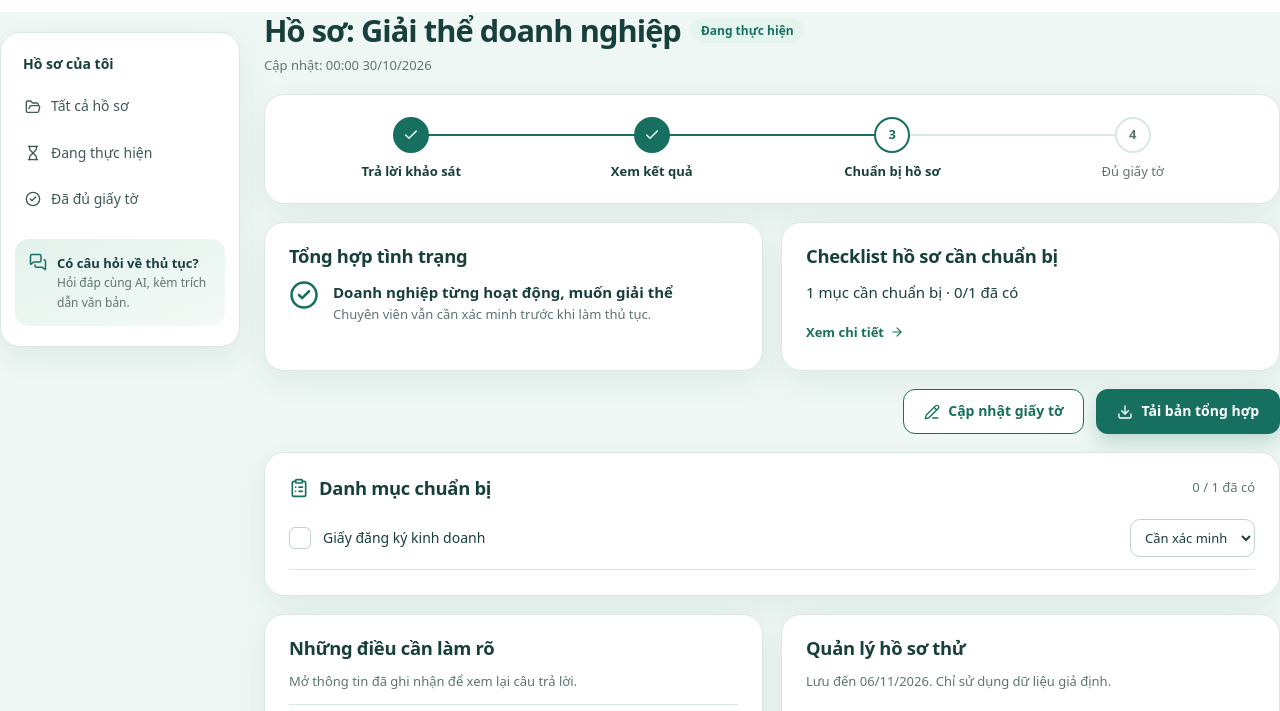
Test case: Chuẩn bị hồ sơ khảo sát › chỉ báo lưu sau khi API xác nhận trạng thái giấy tờ
Select "Đã có" in the dropdown named "Trạng thái: Giấy đăng ký kinh doanh". click: (1192, 538)
box: [1130,519,1255,557]
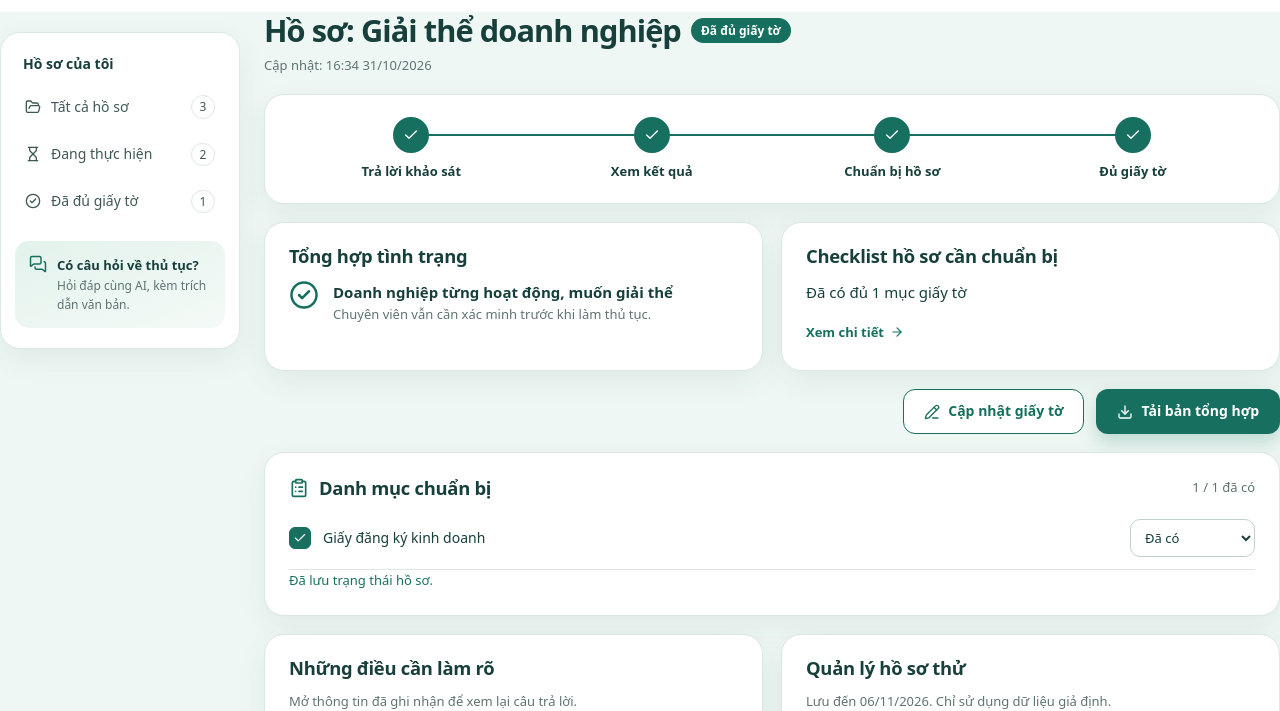
Now the text "Đã lưu trạng thái hồ sơ." is shown, box [289,571,433,589]
